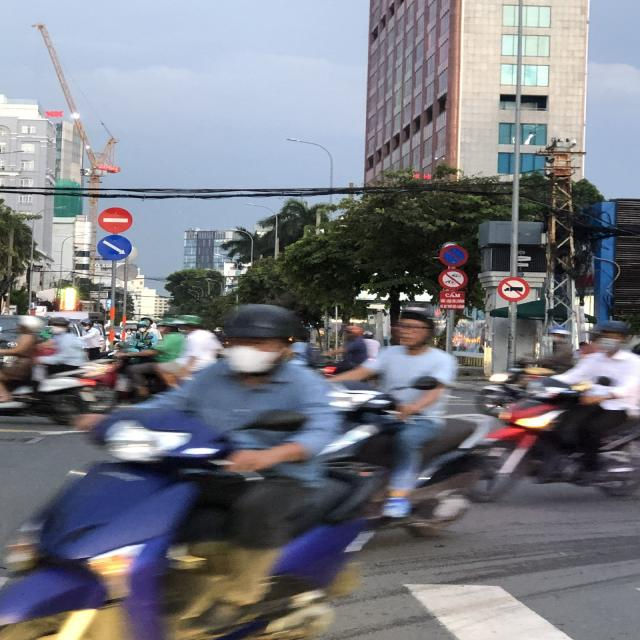Bien bao cam di nguoc chieu: (96, 206, 133, 234)
Bien bao cam do xe: (436, 242, 469, 268)
Bien bao cam xe so-mi ro-mooc: (495, 274, 532, 303)
Bien bao huong phai di vong chuong ngai vat: (95, 233, 134, 261)
